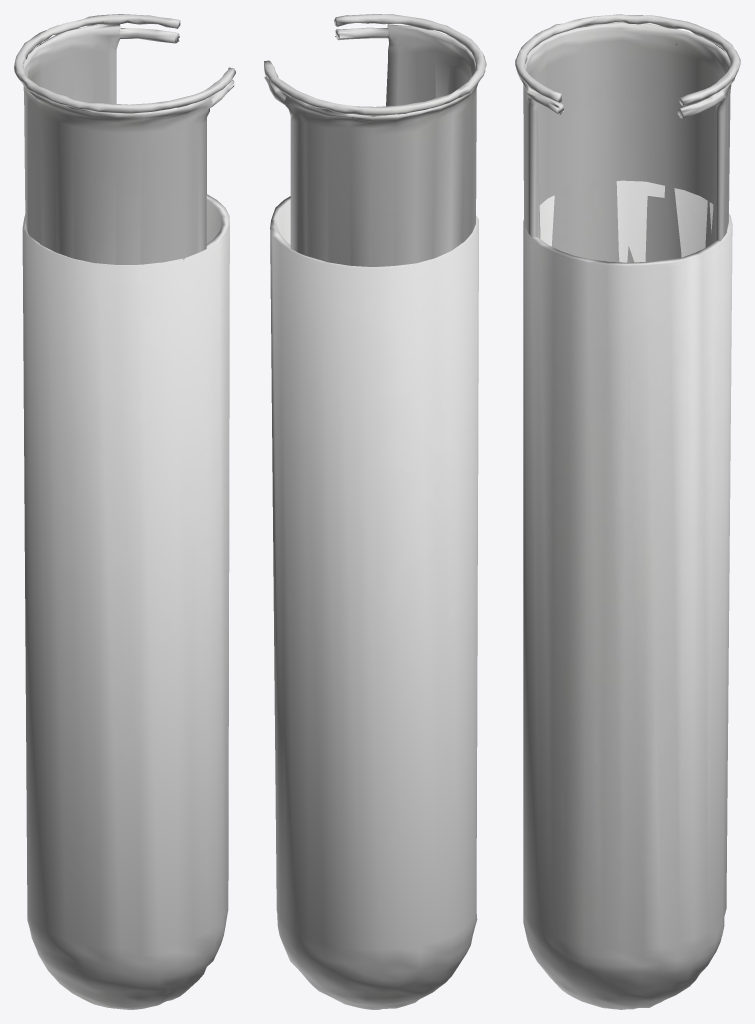
3 renders of one model, left to right at view 1: azimuth 30°, elevation 25°; view 2: azimuth 150°, elevation 25°; view 3: azimuth 270°, elevation 25°, orthographic.
Visible parts, largest first — view 1: tripo_node_e08aa3f8-8c97-4aa5-848f-0d91390f7c80; view 2: tripo_node_e08aa3f8-8c97-4aa5-848f-0d91390f7c80; view 3: tripo_node_e08aa3f8-8c97-4aa5-848f-0d91390f7c80.
Boxes of the visible parts, bbox=[...] form: tripo_node_e08aa3f8-8c97-4aa5-848f-0d91390f7c80: bbox=[14, 14, 235, 1009]; tripo_node_e08aa3f8-8c97-4aa5-848f-0d91390f7c80: bbox=[264, 14, 486, 1009]; tripo_node_e08aa3f8-8c97-4aa5-848f-0d91390f7c80: bbox=[515, 14, 740, 1009].
Size of the model in its own units: 0.209 by 0.998 by 0.2168.
1 material, 1 textured.
